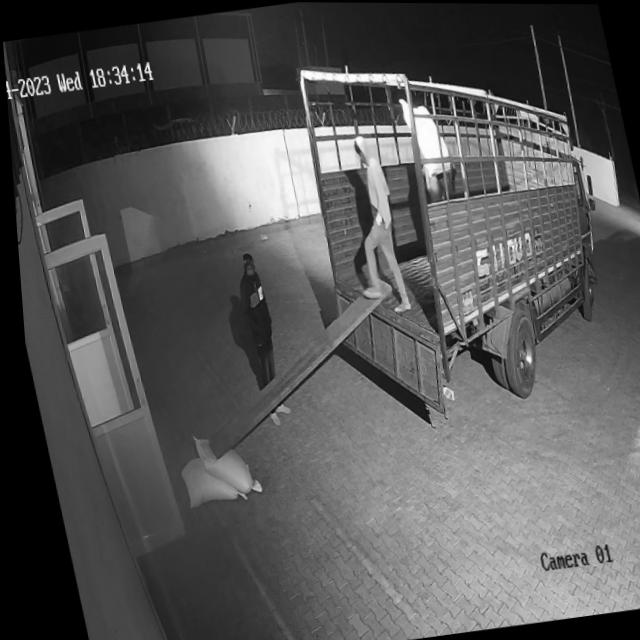sack: (184, 425, 255, 499), (397, 93, 452, 178), (171, 451, 241, 510)
